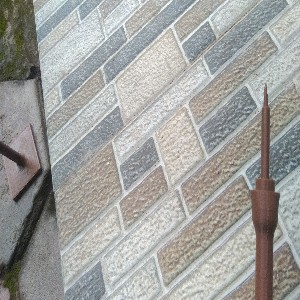solder: (248, 82, 281, 300)
